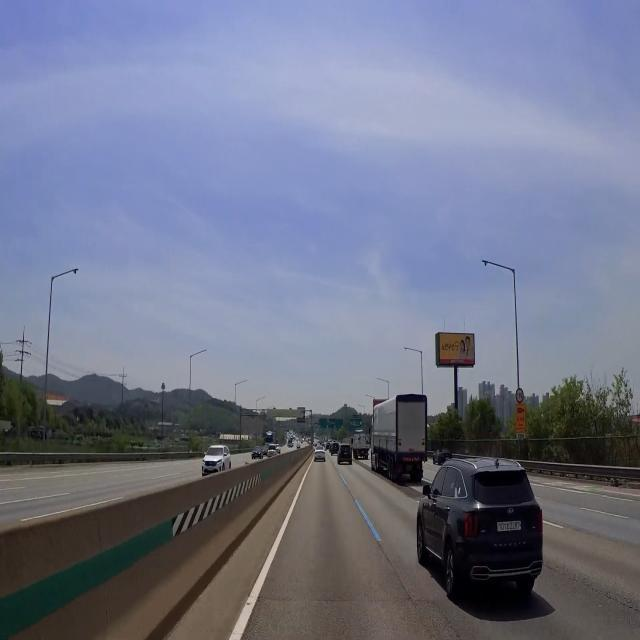car: (493, 516, 526, 537), (206, 466, 216, 472), (342, 451, 349, 457), (317, 455, 323, 460)
